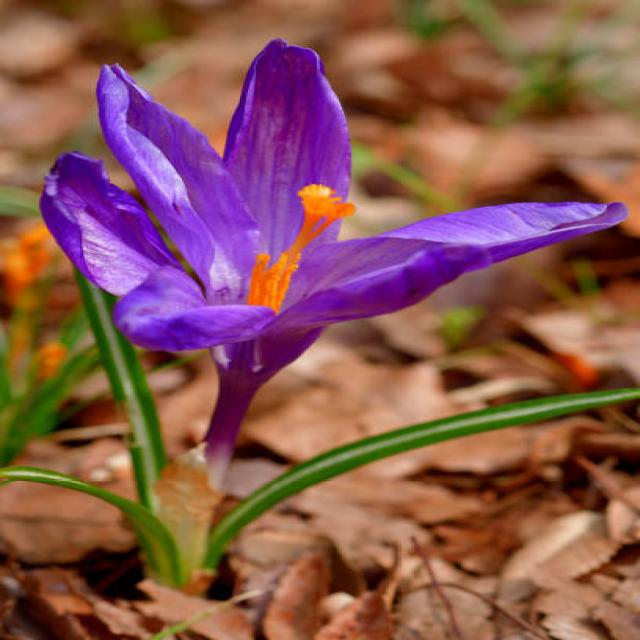saffron open: (41, 40, 626, 475)
